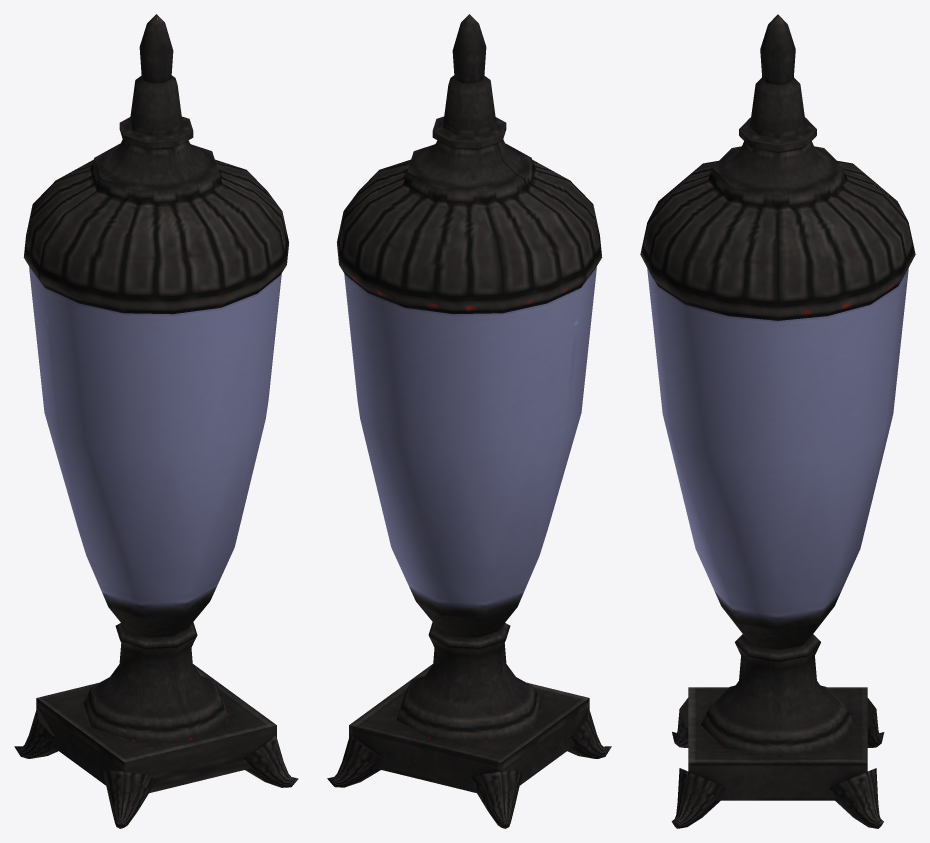
Rendered from Censer.FBX.
3 renders of one model, left to right at view 1: azimuth 30°, elevation 25°; view 2: azimuth 150°, elevation 25°; view 3: azimuth 270°, elevation 25°, orthographic.
Visible parts, largest first — view 1: Censer01, Censer01_Glass; view 2: Censer01, Censer01_Glass; view 3: Censer01, Censer01_Glass.
Boxes of the visible parts, box(x1,y1,x2,y2) form: Censer01: box(14, 14, 298, 828); Censer01_Glass: box(29, 267, 281, 617); Censer01: box(327, 14, 611, 828); Censer01_Glass: box(344, 267, 596, 617); Censer01: box(640, 14, 915, 828); Censer01_Glass: box(647, 268, 908, 630).
Bounding box in the file's own units: 32 × 99.21 × 32.
